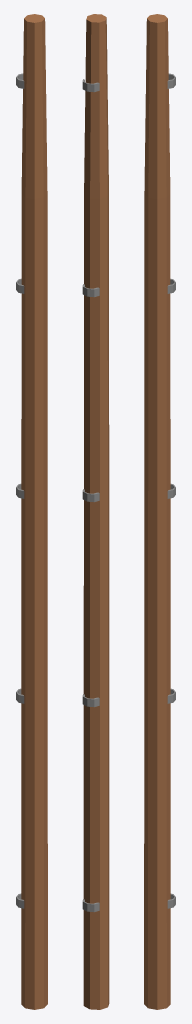
File: Udochka.fbx
3 views of the same model, side by side, from view 1: azimuth 90°, elevation 25°; view 2: azimuth 150°, elevation 25°; view 3: azimuth 270°, elevation 25° (orthographic).
Visible parts, largest first — view 1: Circle.001, Circle; view 2: Circle.001, Circle; view 3: Circle.001, Circle.
Boxes of the visible parts, x1,y1,x2,y2 form: Circle.001: (21, 14, 47, 1009); Circle: (16, 73, 24, 908); Circle.001: (83, 14, 109, 1009); Circle: (82, 79, 99, 912); Circle.001: (144, 14, 170, 1009); Circle: (167, 73, 175, 908).
Size of the model in its own units: 5.53 by 226 by 6.6.
